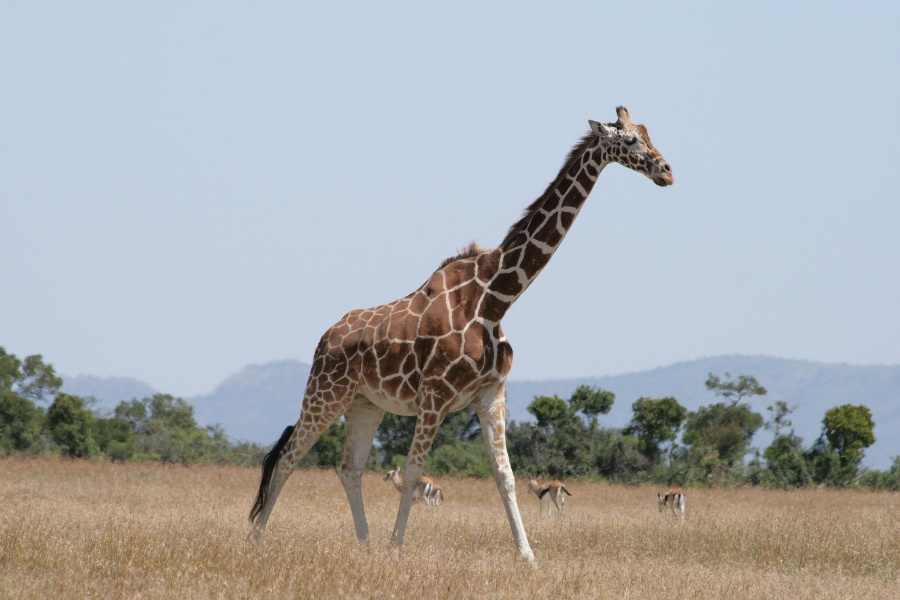giraffe: (242, 99, 681, 535)
